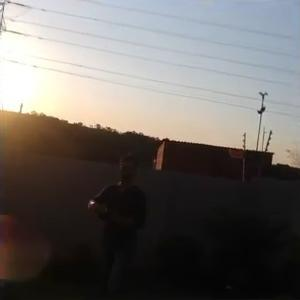follow: (79, 146, 160, 296)
